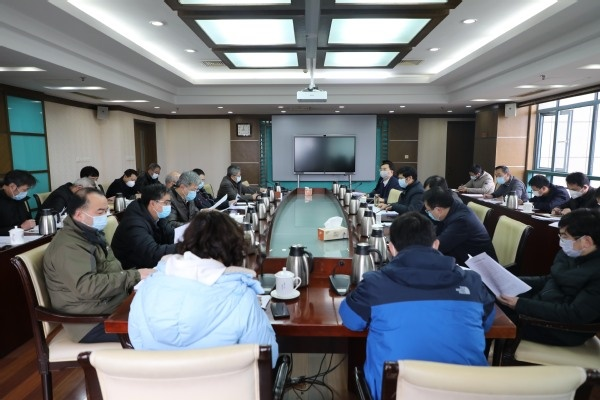correctlyWear: (75, 201, 110, 231), (557, 226, 590, 257), (150, 191, 172, 219), (8, 178, 31, 201), (425, 200, 443, 221), (566, 179, 585, 198), (182, 184, 198, 203), (532, 180, 549, 196), (193, 172, 208, 188), (379, 165, 394, 180), (494, 171, 511, 184), (124, 173, 138, 187), (398, 175, 413, 188), (230, 170, 243, 183), (148, 167, 162, 179), (470, 169, 484, 181)
